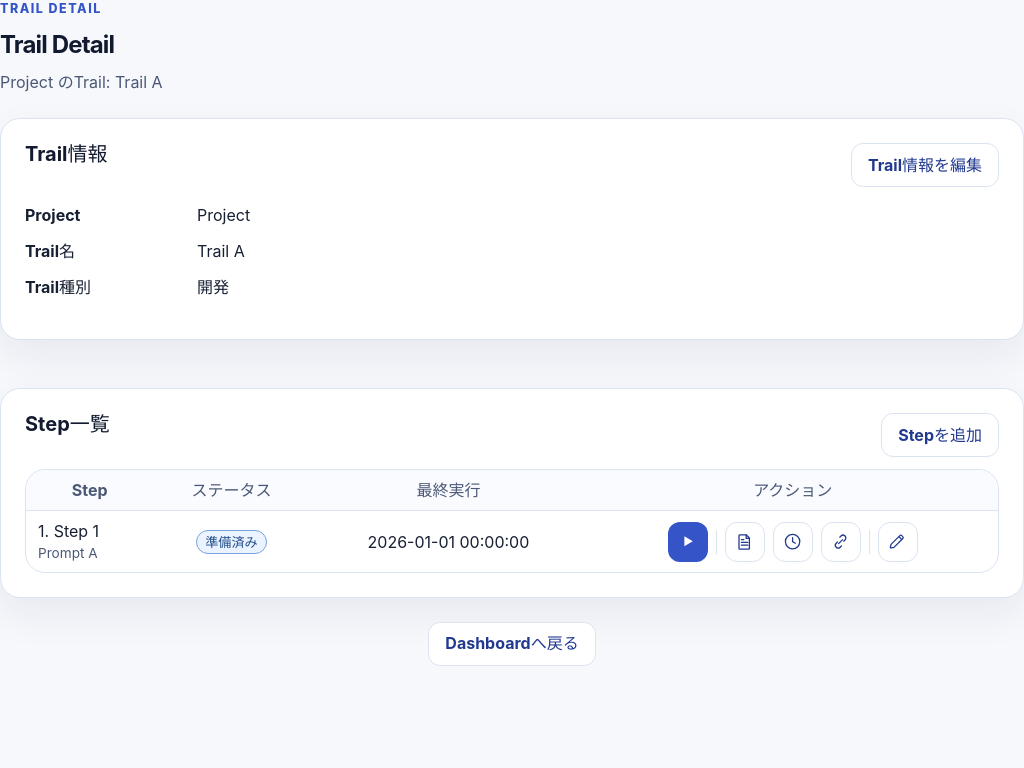
it: TrailDetailPage Link form › rejects an unselected Link type without saving
The width and height of the screenshot is (1024, 768).
Check: the text "Prompt A" is shown, box [38,545,98,561]
Step 1. Click the button named "関連リンクを表示" → (841, 542), box [821,522,861,562]
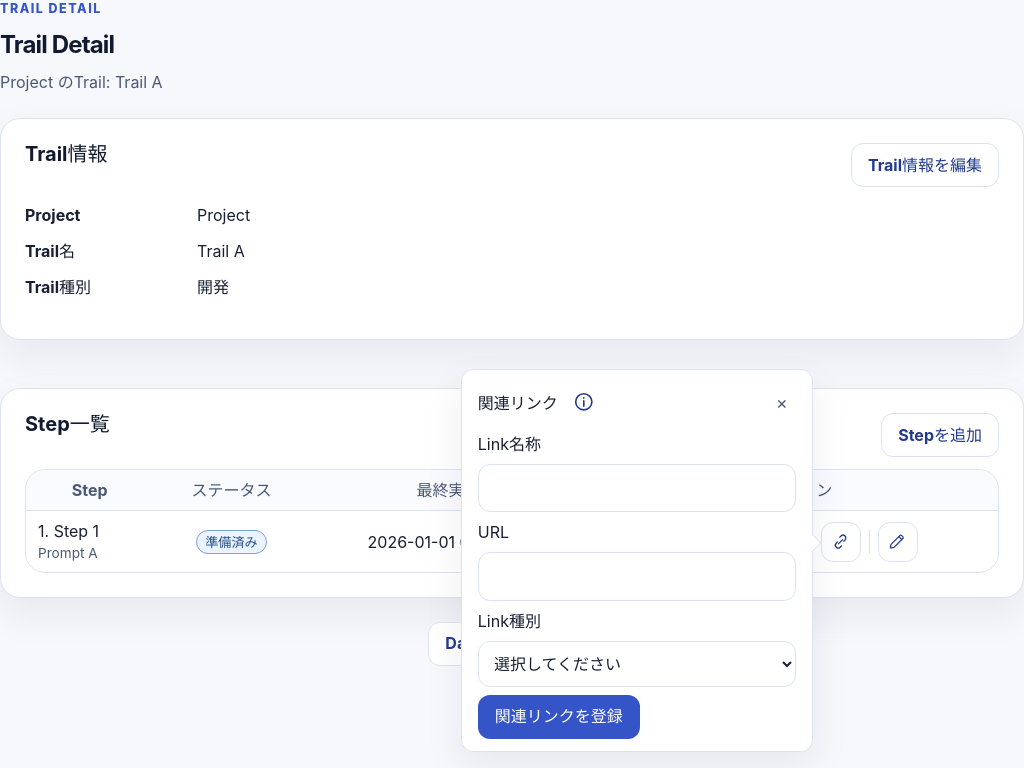
Step 2. Type "Result document" into the field labelled "Link名称" → (637, 488), box [478,464,796,512]
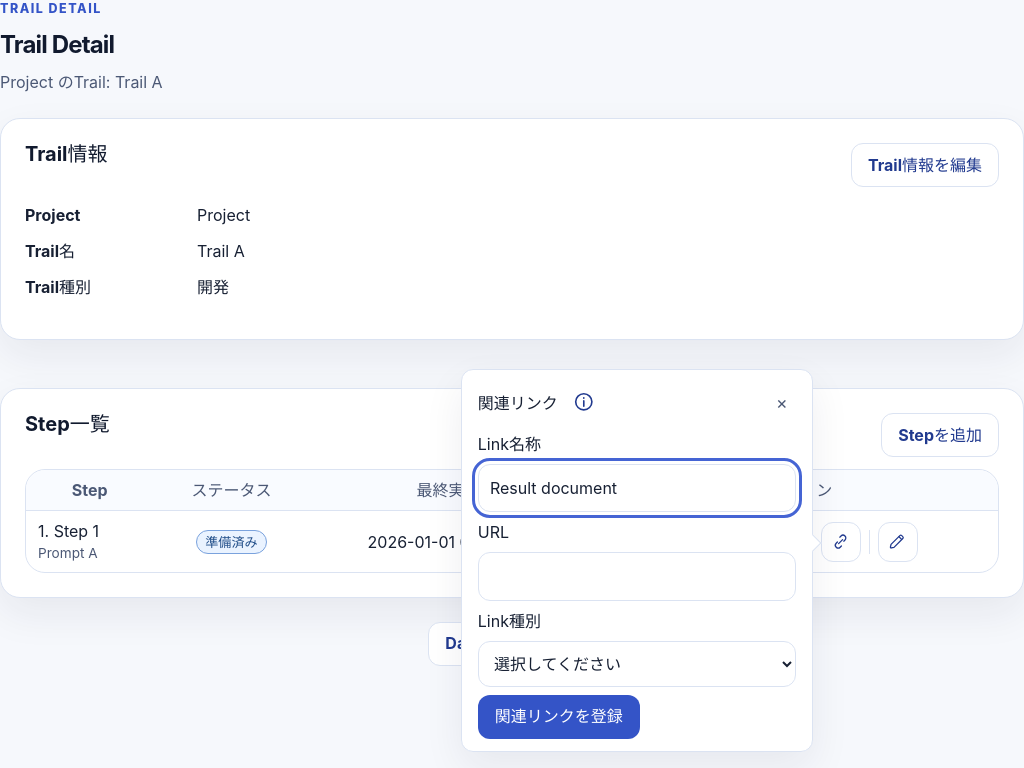
Step 3. Type "https://example.com" into the field labelled "URL" → (637, 576), box [478,552,796,601]
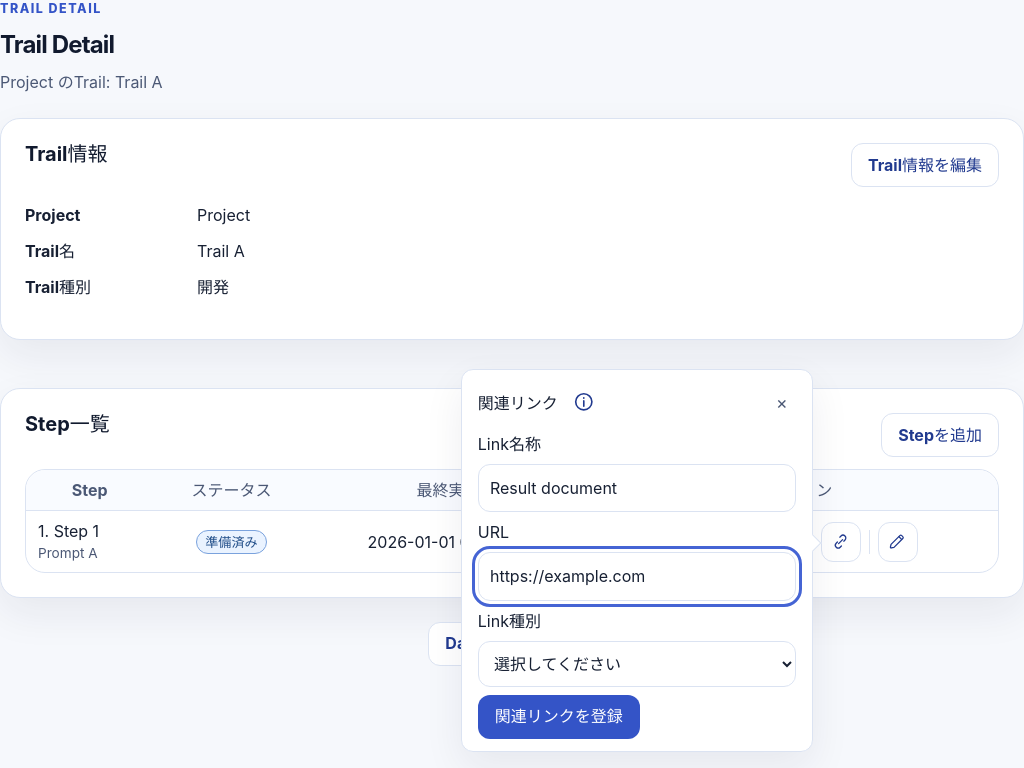
Step 4. Click the button "関連リンクを登録" → (559, 717), box [478,695,640,739]
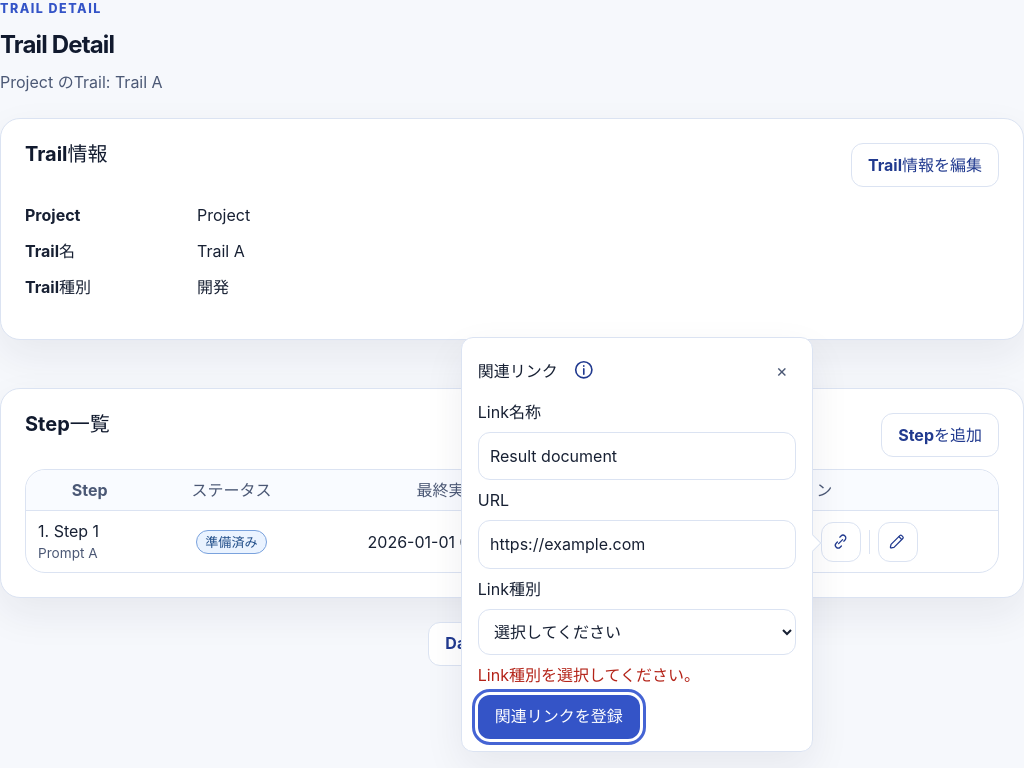
Check: the text "Link種別を選択してください。" is shown, box [478,665,700,685]
